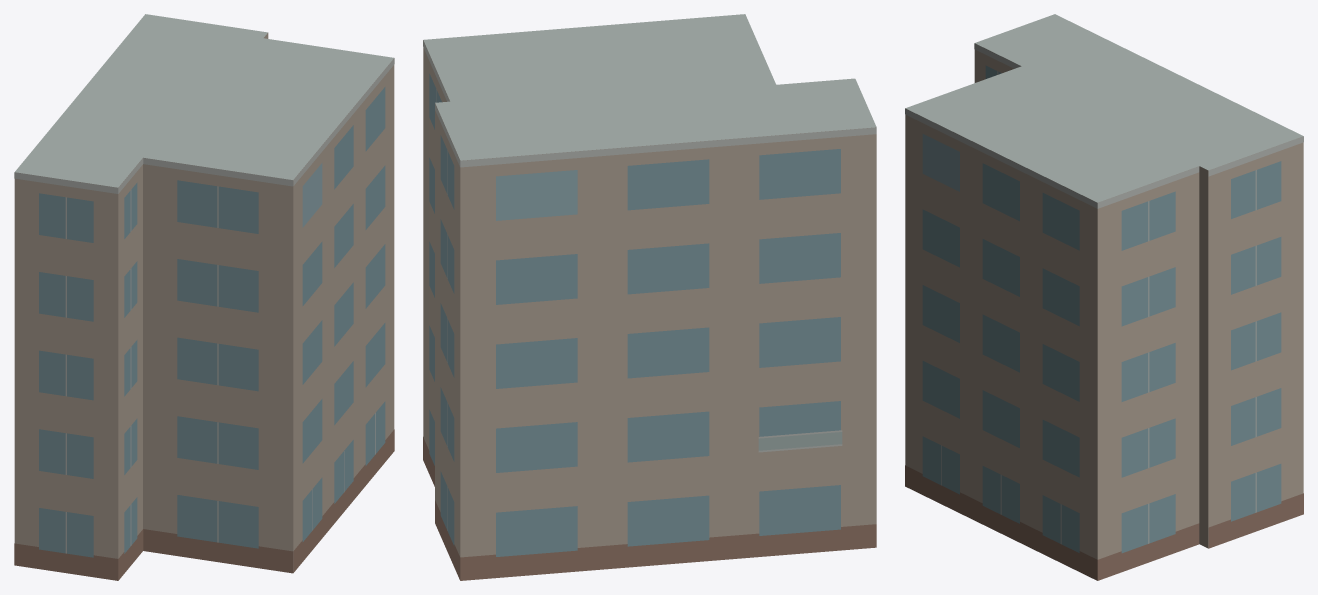
Rendered from survey-upis-32924737.glb.
3 renders of one model, left to right at view 1: azimuth 30°, elevation 25°; view 2: azimuth 150°, elevation 25°; view 3: azimuth 270°, elevation 25°, orthographic. The views are drawn at different scales.
Parts seen in each view (by area): view 1: survey-upis-32924737.tmp; view 2: survey-upis-32924737.tmp; view 3: survey-upis-32924737.tmp.
Boxes of the visible parts, bbox=[...] form: survey-upis-32924737.tmp: bbox=[14, 14, 394, 580]; survey-upis-32924737.tmp: bbox=[423, 14, 876, 580]; survey-upis-32924737.tmp: bbox=[905, 14, 1303, 580].
Size of the model in its own units: 16.06 by 15 by 14.34.
